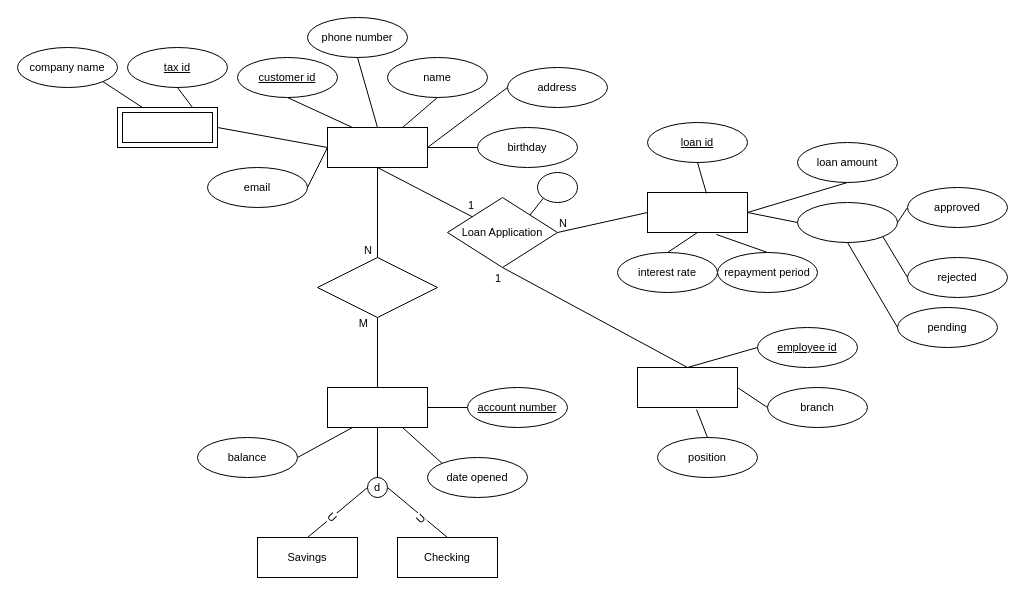
Some shapes in this 1025 by 595 pixel diagram are drawn without their labels. The box of each missing label's shape, as (x1, y1, x2, y2) in pixels:
Account: (326, 386, 428, 428)
Business Client: (116, 106, 218, 148)
Customer: (326, 126, 428, 168)
date: (536, 172, 578, 202)
Employee: (636, 366, 738, 408)
Loan: (646, 192, 748, 232)
status: (796, 202, 898, 242)
